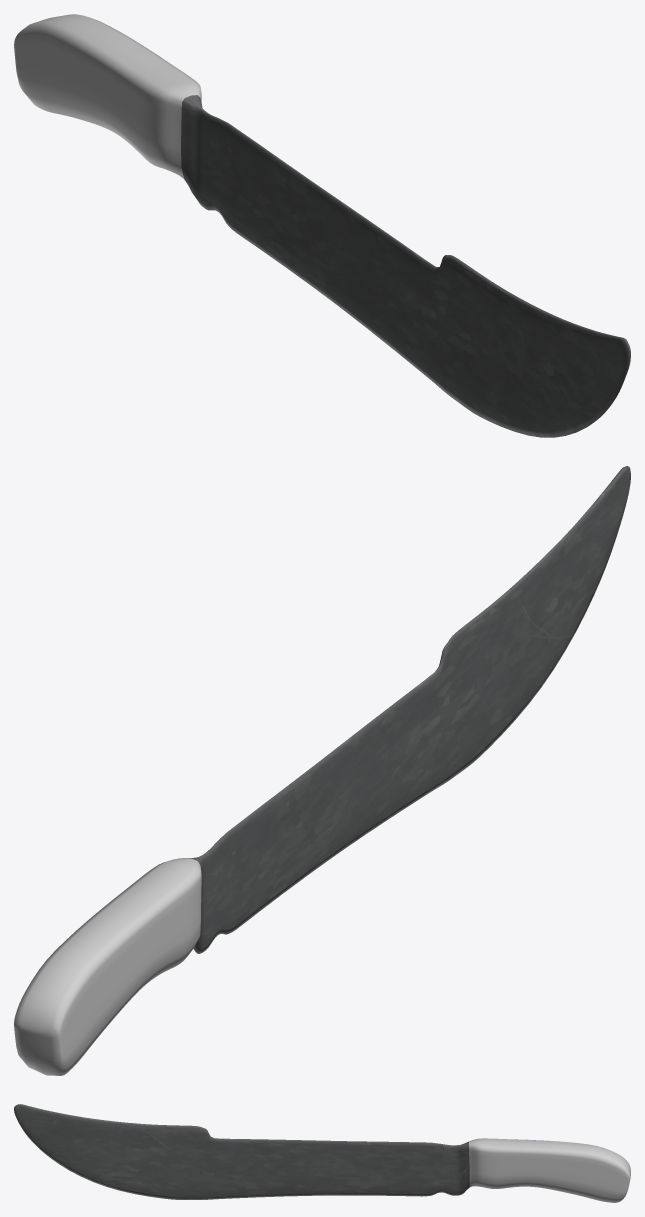
File: catana.fbx
The picture shows the model from 3 angles, top to bottom: view 1: azimuth 30°, elevation 25°; view 2: azimuth 150°, elevation 25°; view 3: azimuth 270°, elevation 25°; orthographic projection. The views are drawn at different scales.
Visible parts, largest first — view 1: catana final; view 2: catana final; view 3: catana final.
Boxes of the visible parts, box(x1,y1,x2,y2) form: catana final: box(14, 14, 630, 437); catana final: box(14, 466, 630, 1075); catana final: box(14, 1104, 630, 1202).
Size of the model in its own units: 20.53 by 80.4 by 463.
